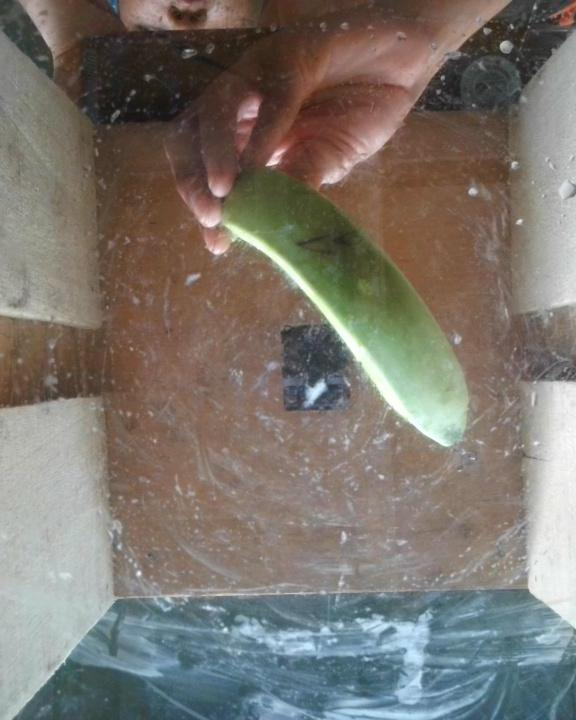CLASS B: (208, 150, 496, 462)
Class A: (291, 209, 372, 272)
